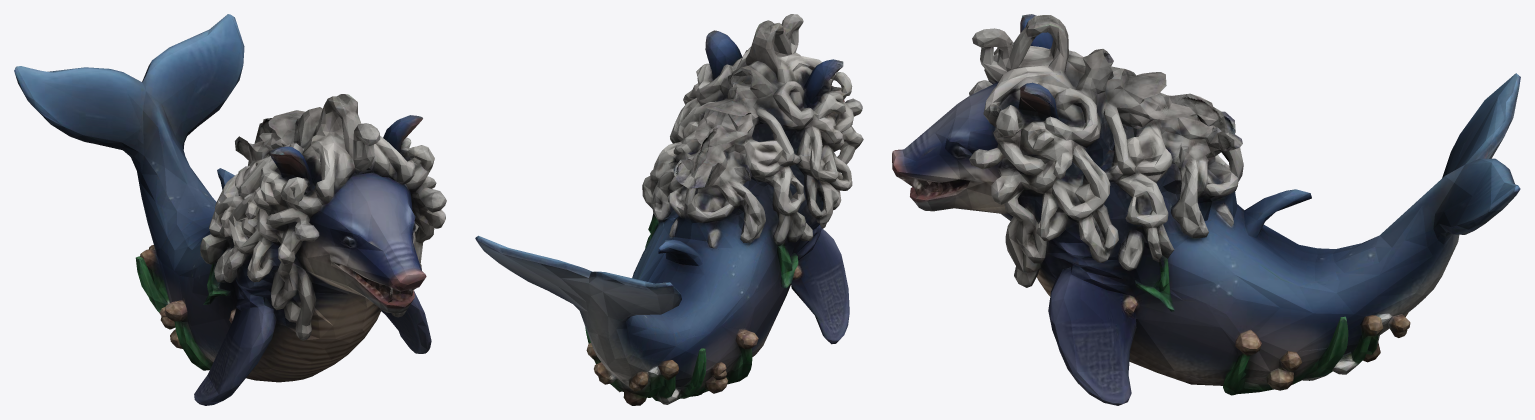
Rendered from bakuroth__dreadEater.glb.
The picture shows the model from 3 angles, left to right: view 1: azimuth 30°, elevation 25°; view 2: azimuth 150°, elevation 25°; view 3: azimuth 270°, elevation 25°; orthographic projection. The views are drawn at different scales.
Parts seen in each view (by area): view 1: world; view 2: world; view 3: world.
Boxes of the visible parts, box(x1,y1,x2,y2) form: world: box(14, 14, 446, 405); world: box(475, 14, 863, 405); world: box(892, 14, 1520, 405).
Size of the model in its own units: 0.4458 by 0.6307 by 0.9982.
Materials: 1 (1 with a texture image).
